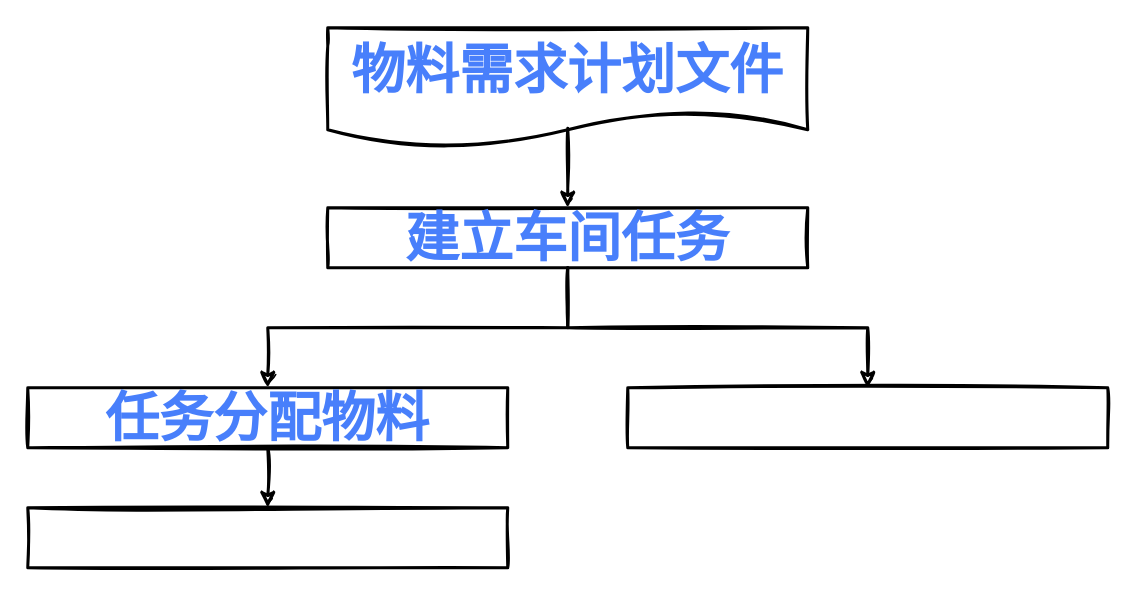
Some shapes in this 1134 by 596 pixel diagram are drawn without their labels. Each missing label, with the centre of its shape:
"下达车间任务" goes at (267,537).
"加工单" goes at (867,417).
